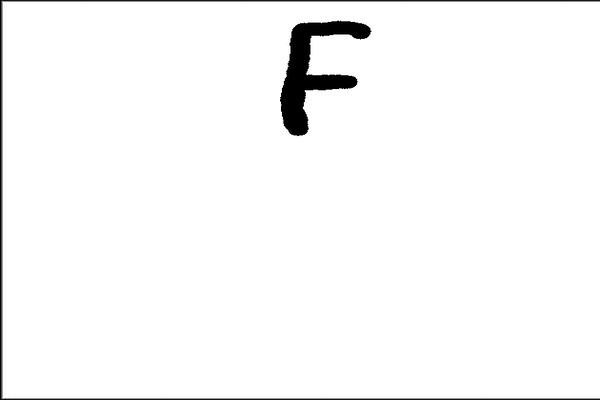F: (275, 17, 374, 140)
